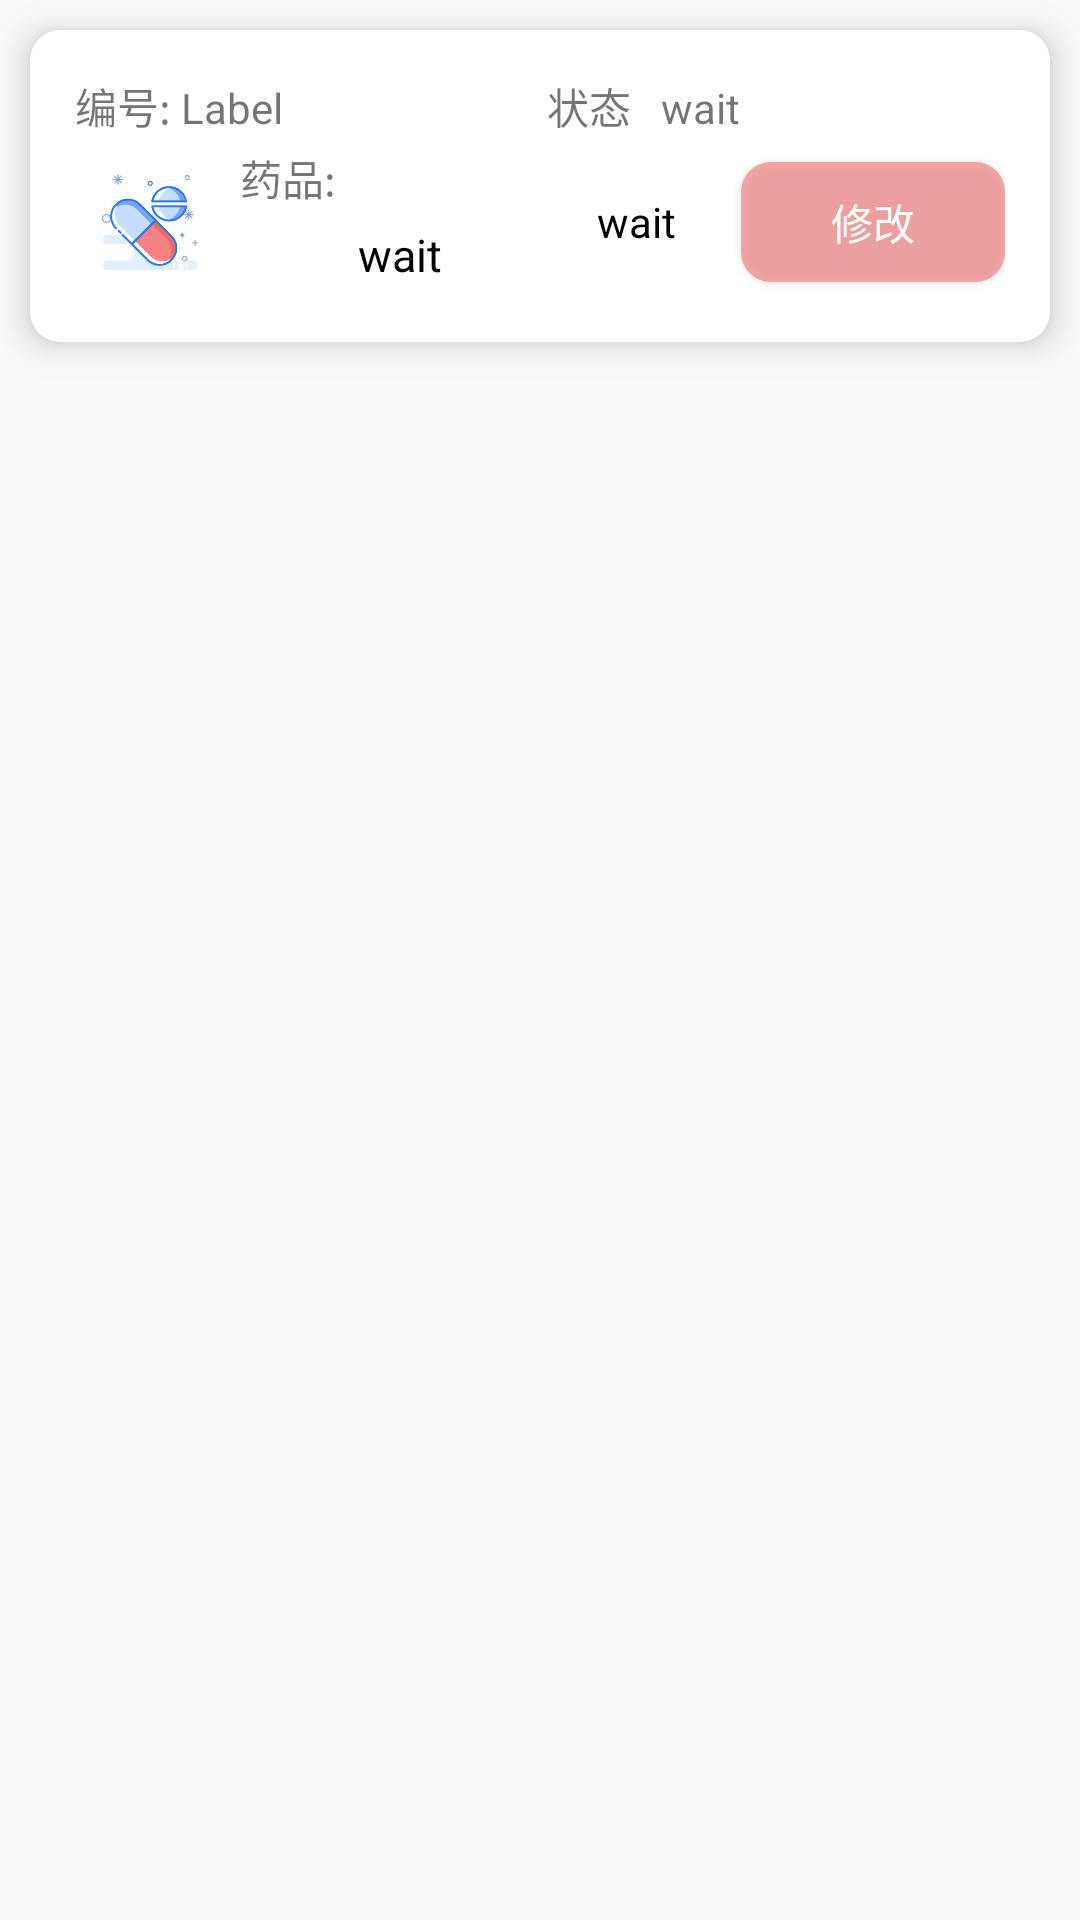

Icon bounding boxes for this 1080w x 1920h phone screenshot, format box(x1, y1, x2, y2):
medicine: box(102, 174, 198, 270)
